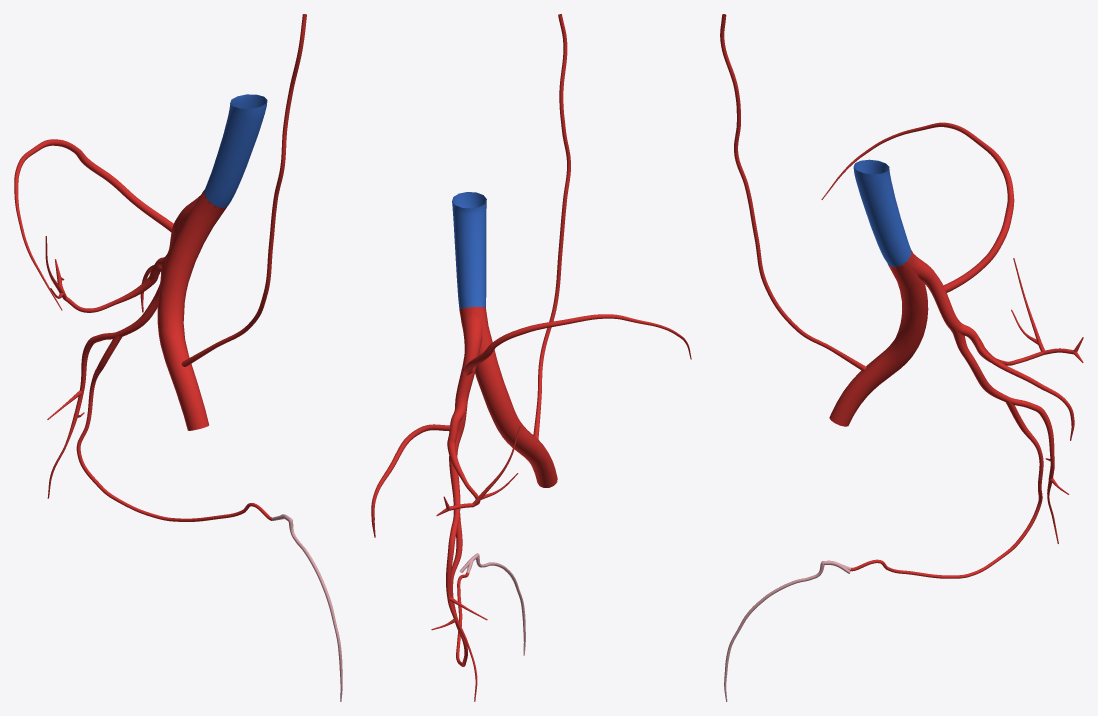
Rendered from circulatorio-common-iliac-vein-r.glb.
The picture shows the model from 3 angles, left to right: view 1: azimuth 30°, elevation 25°; view 2: azimuth 150°, elevation 25°; view 3: azimuth 270°, elevation 25°; orthographic projection. The views are drawn at different scales.
Parts seen in each view (by area): view 1: External iliac vein.r, Common iliac vein.r, Inferior epigastric vein.r, Iliolumbar vein.r, Internal pudendal vein.r, Inferior gluteal veins.r, Superior gluteal veins.r, Deep dorsal vein of penis; view 2: External iliac vein.r, Common iliac vein.r, Inferior epigastric vein.r, Inferior gluteal veins.r, Iliolumbar vein.r, Superior gluteal veins.r, Internal iliac vein.r, Internal pudendal vein.r, Lateral sacral veins.r, Deep dorsal vein of penis; view 3: External iliac vein.r, Common iliac vein.r, Iliolumbar vein.r, Inferior epigastric vein.r, Inferior gluteal veins.r, Internal pudendal vein.r, Superior gluteal veins.r, Internal iliac vein.r, Deep dorsal vein of penis, Lateral sacral veins.r.
Boxes of the visible parts, x1,y1,x2,y2 form: External iliac vein.r: [157, 189, 226, 430]; Common iliac vein.r: [204, 94, 267, 207]; Inferior epigastric vein.r: [181, 14, 306, 366]; Iliolumbar vein.r: [14, 139, 173, 310]; Internal pudendal vein.r: [76, 334, 271, 521]; Inferior gluteal veins.r: [47, 256, 167, 498]; Superior gluteal veins.r: [45, 236, 166, 312]; Deep dorsal vein of penis: [271, 514, 342, 701]; External iliac vein.r: [460, 307, 557, 487]; Common iliac vein.r: [452, 192, 486, 309]; Inferior epigastric vein.r: [533, 14, 570, 439]; Inferior gluteal veins.r: [431, 403, 487, 701]; Iliolumbar vein.r: [462, 314, 691, 375]; Superior gluteal veins.r: [436, 403, 520, 515]; Internal iliac vein.r: [455, 307, 484, 403]; Internal pudendal vein.r: [450, 513, 468, 666]; Lateral sacral veins.r: [371, 424, 450, 537]; Deep dorsal vein of penis: [459, 553, 525, 655]; External iliac vein.r: [829, 250, 928, 426]; Common iliac vein.r: [853, 159, 911, 266]; Iliolumbar vein.r: [821, 122, 1014, 292]; Inferior epigastric vein.r: [720, 14, 866, 371]; Inferior gluteal veins.r: [949, 322, 1069, 543]; Internal pudendal vein.r: [850, 400, 1043, 578]; Superior gluteal veins.r: [950, 258, 1083, 365]; Internal iliac vein.r: [891, 252, 958, 328]; Deep dorsal vein of penis: [724, 560, 850, 701]; Lateral sacral veins.r: [973, 337, 1074, 440].
Size of the model in its own units: 0.1276 by 0.3463 by 0.1705.
